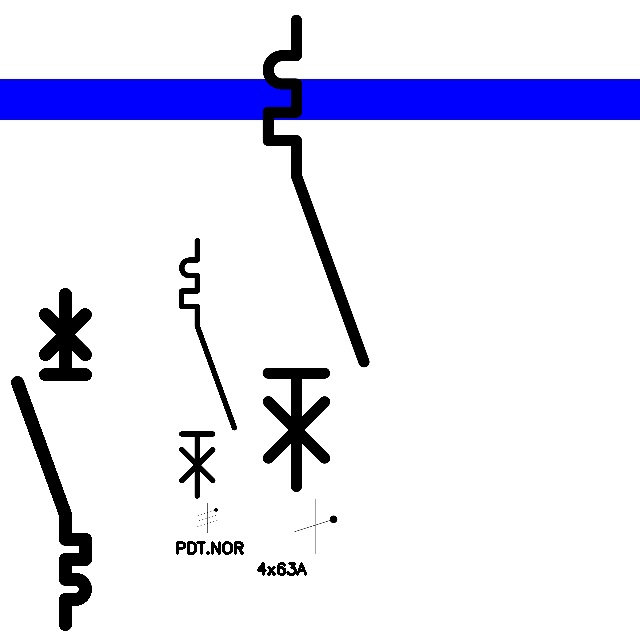interruptor_termomagnetico: (256, 8, 376, 499), (9, 286, 94, 633), (175, 234, 240, 503)
